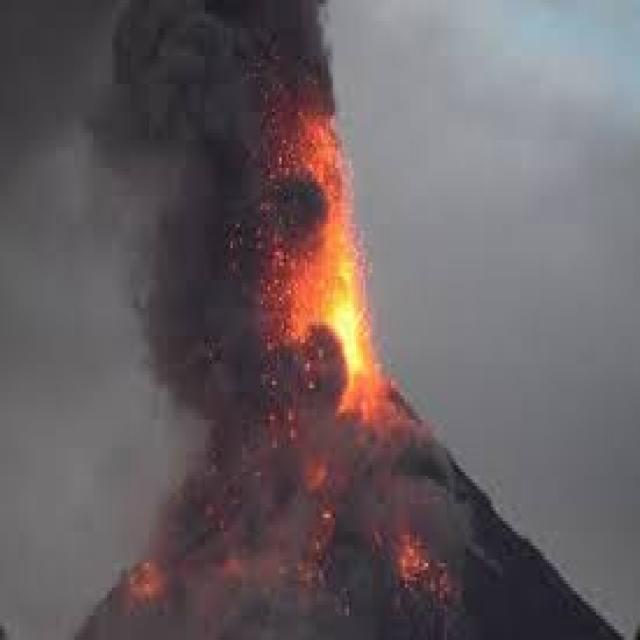explosion: (95, 0, 594, 640)
